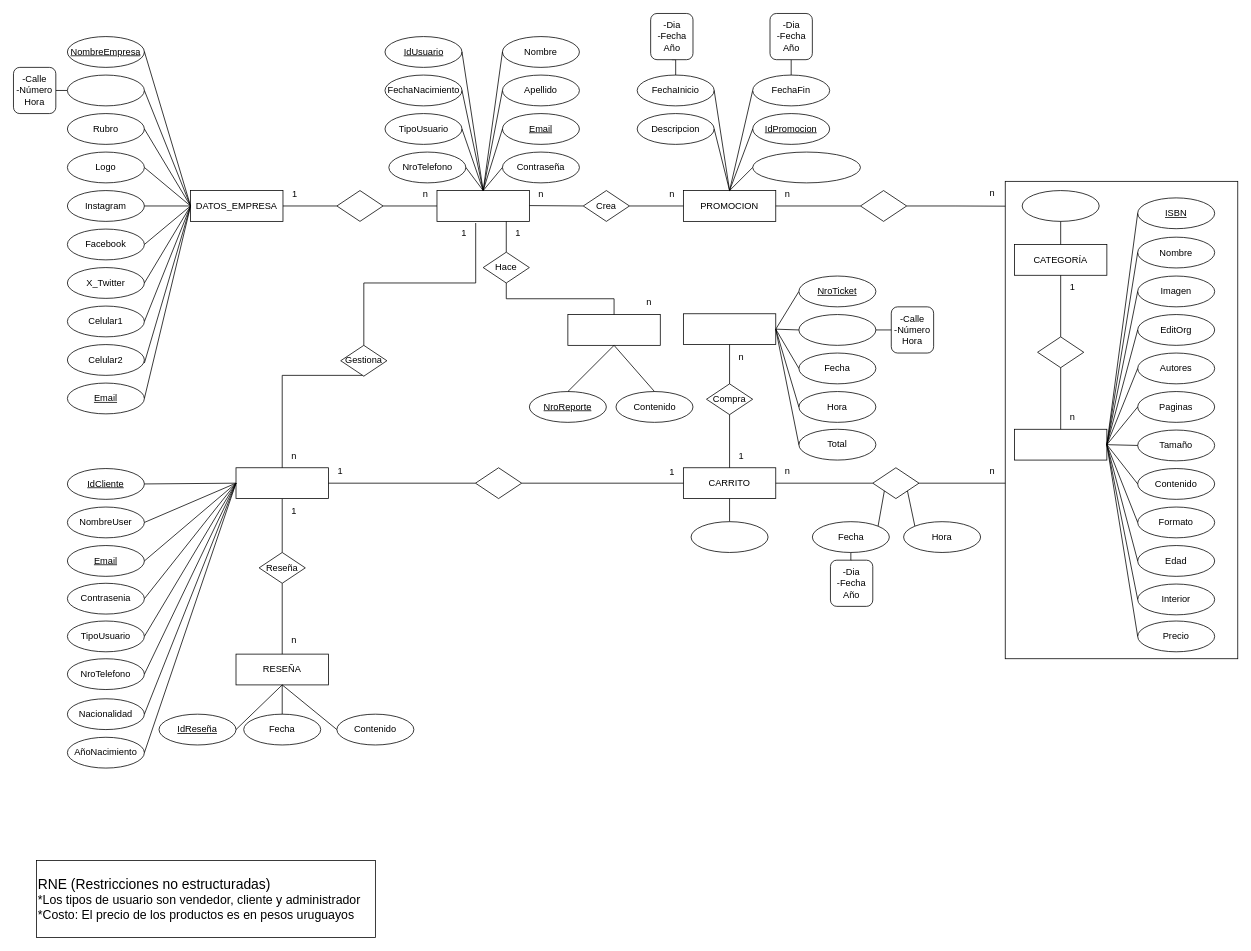
This 1251x951 diagram has some shape labels left out. Here are the shapes that lost their labels. From the top down, the centre of each, then its label:
the point at 105,90: Direccion
the point at 806,167: PorcentajeDescuento
the point at 359,205: Carga
the point at 482,205: ADMINISTRADOR
the point at 883,205: Aplica
the point at 1060,205: NombreCategoria
the point at 613,329: REPORTE
the point at 729,329: TICKET
the point at 837,329: DirEnvio
the point at 1060,352: Pertenece
the point at 1060,444: HISTORIETA
the point at 281,483: CLIENTE
the point at 498,483: Tiene
the point at 895,483: Agrega
the point at 729,536: IdCarrito
